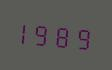eight: (54, 19, 71, 51)
nine: (36, 18, 53, 49), (72, 21, 89, 52)
one: (18, 16, 35, 48)
